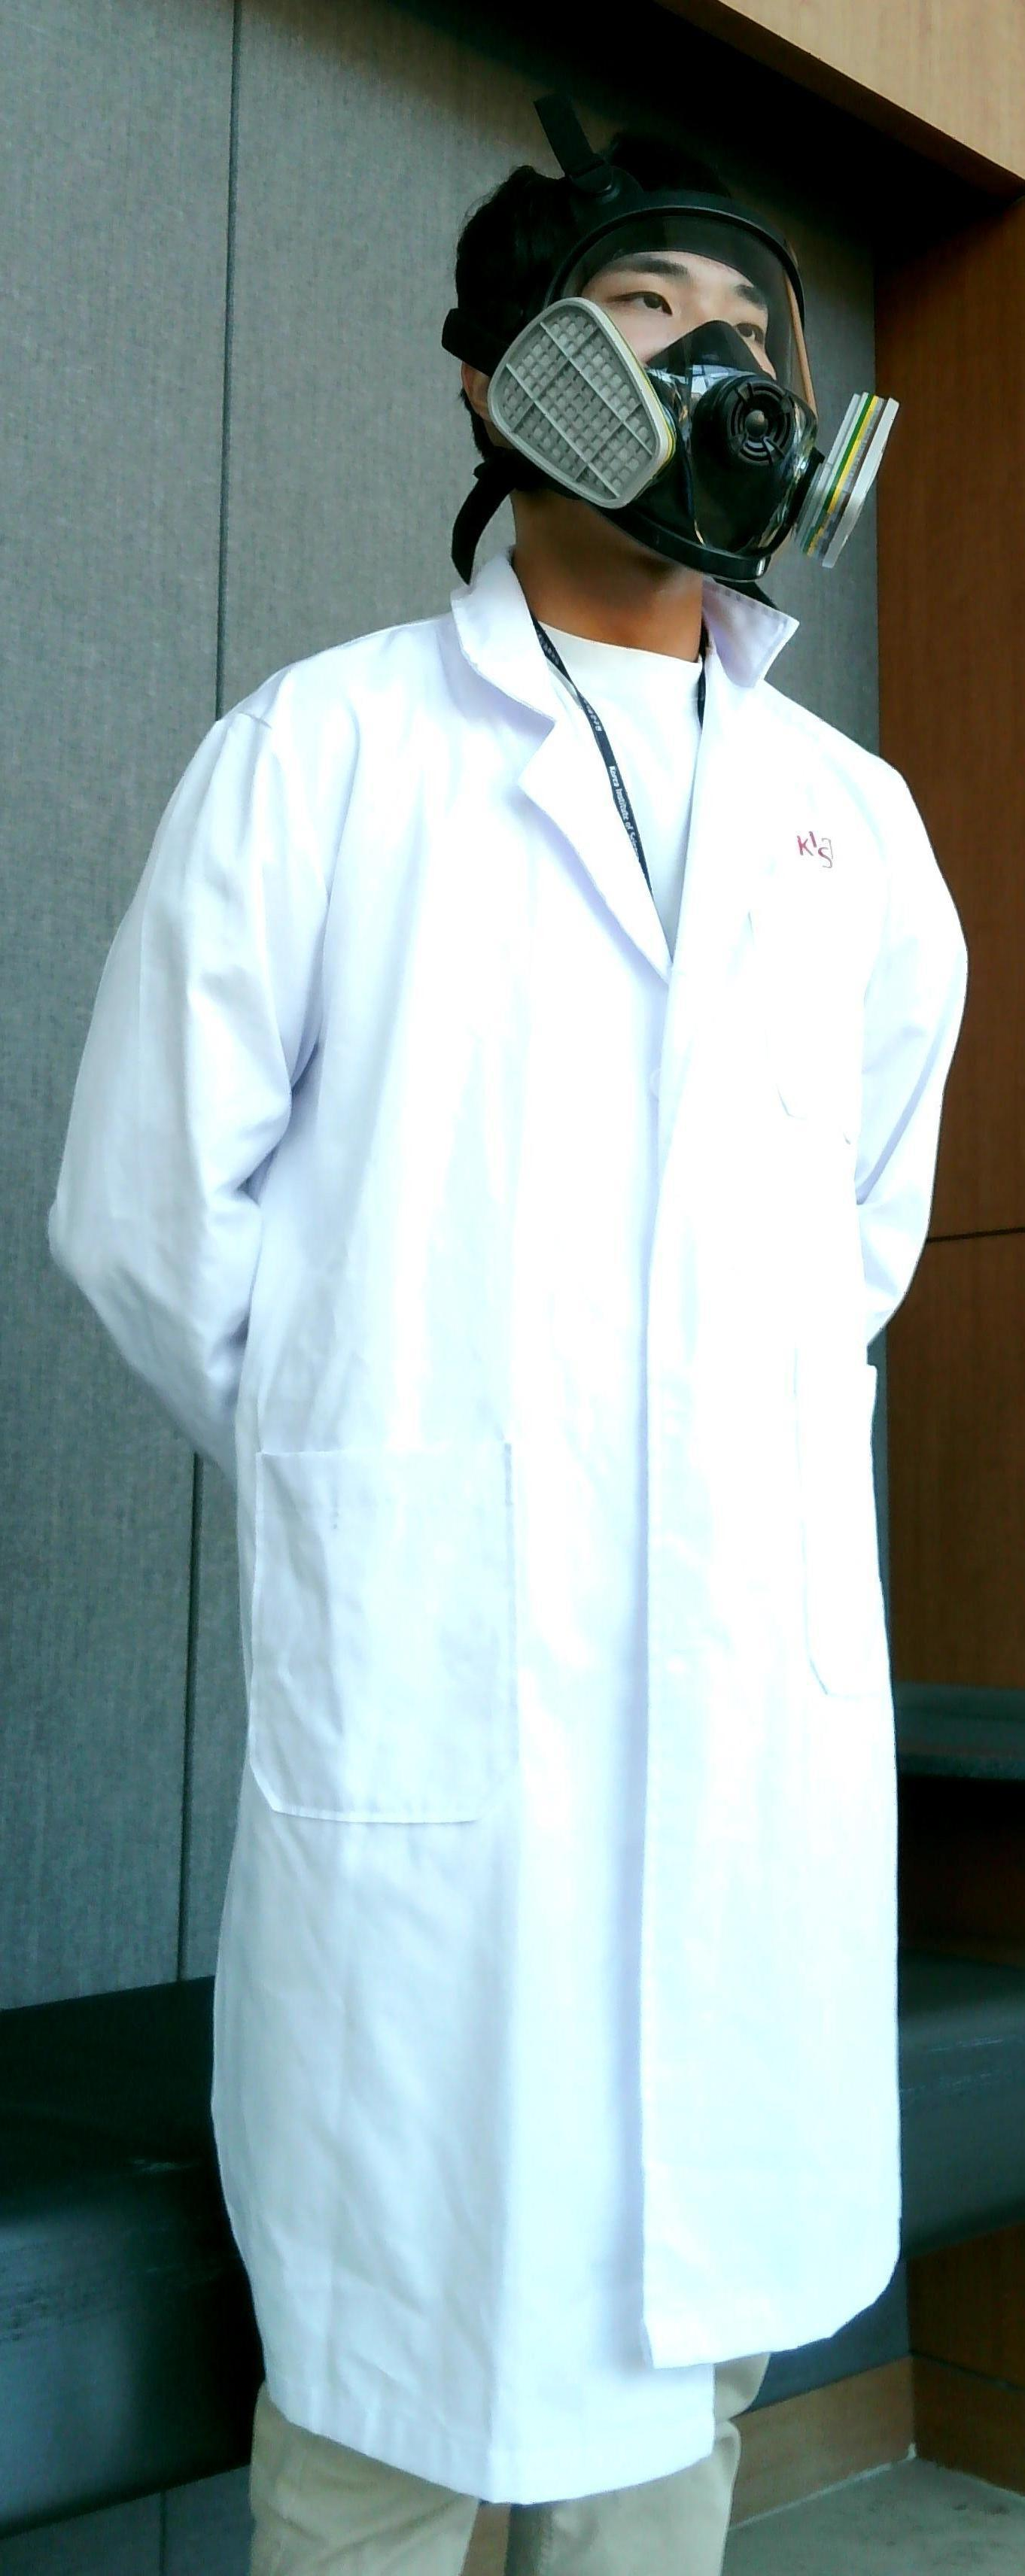lab_coat: (46, 626, 972, 2379)
